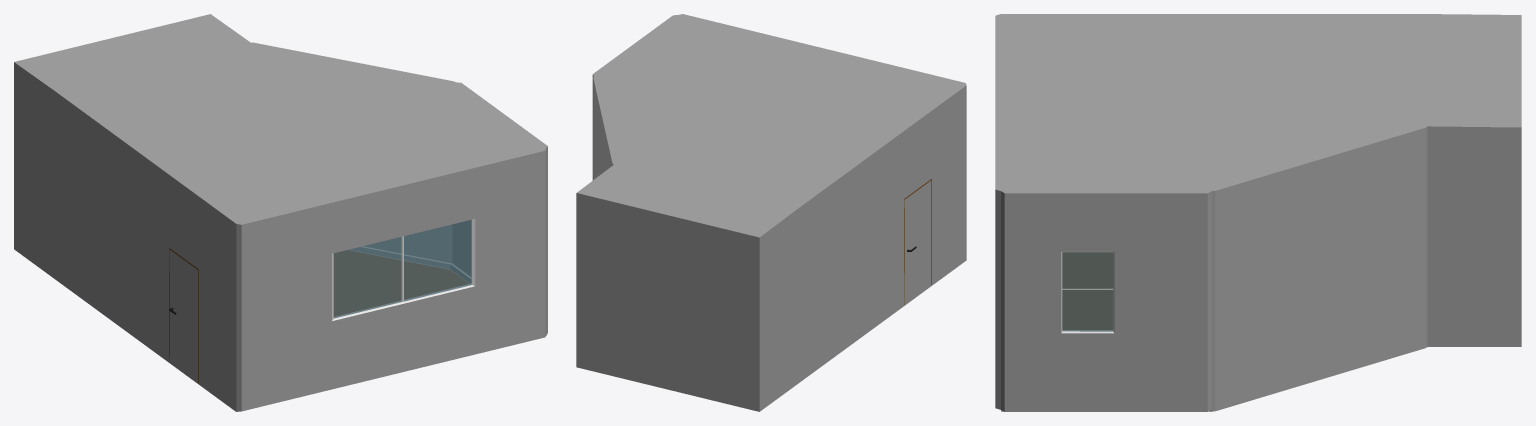
The model's file is roomWallsDoorsWindows.fbx.
3 renders of one model, left to right at view 1: azimuth 30°, elevation 25°; view 2: azimuth 150°, elevation 25°; view 3: azimuth 270°, elevation 25°, orthographic. The views are drawn at different scales.
Visible parts, largest first — view 1: walls, bigWindow; view 2: walls; view 3: walls, littleWindow.
Part boxes in pixels (x1,y1,x2,y2): walls: (14,14,547,411); bigWindow: (332,218,475,320); walls: (576,14,966,411); walls: (995,14,1521,411); littleWindow: (1061,251,1114,333).
Size of the model in its own units: 5.45 by 3.09 by 6.69.
